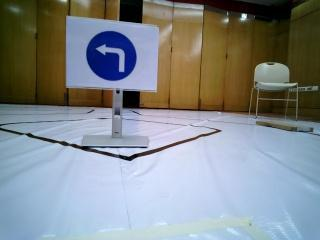left: (66, 18, 153, 94)
